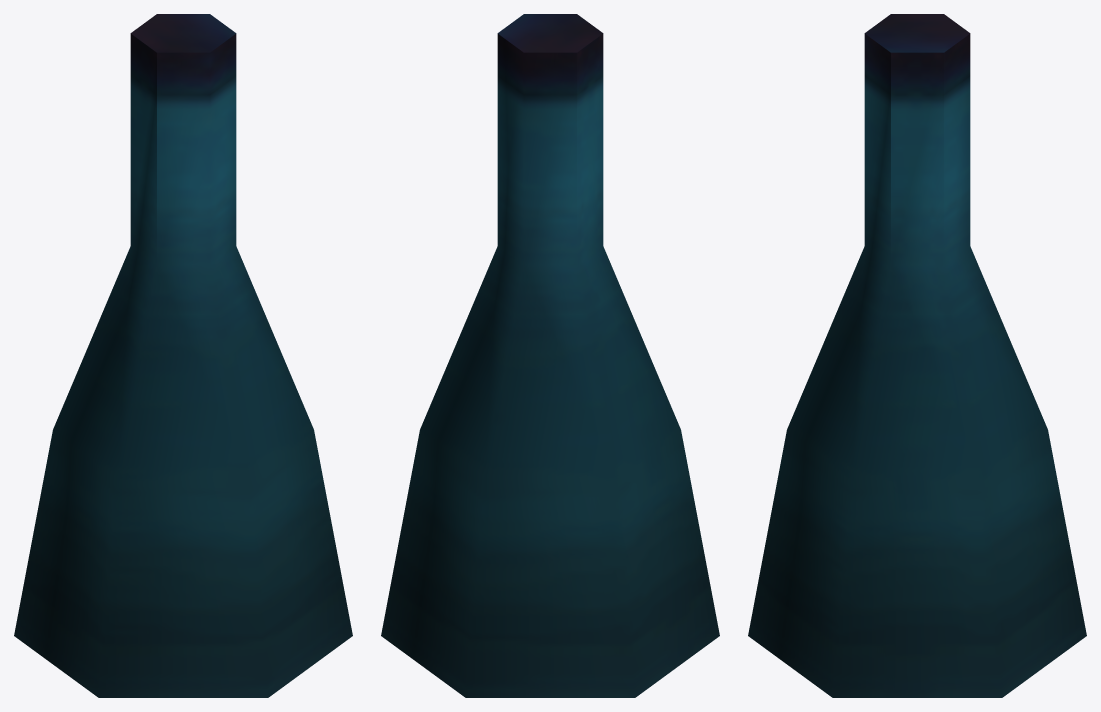
Rendered from Potion02.fbx.
3 views of the same model, side by side, from view 1: azimuth 30°, elevation 25°; view 2: azimuth 150°, elevation 25°; view 3: azimuth 270°, elevation 25° (orthographic).
Parts seen in each view (by area): view 1: Potion02; view 2: Potion02; view 3: Potion02.
Boxes of the visible parts, left/top/right/bottom form: Potion02: left=14, top=14, right=352, bottom=697; Potion02: left=381, top=14, right=719, bottom=697; Potion02: left=748, top=14, right=1086, bottom=697.
Bounding box in the file's own units: 0.2575 × 0.5831 × 0.2973.
